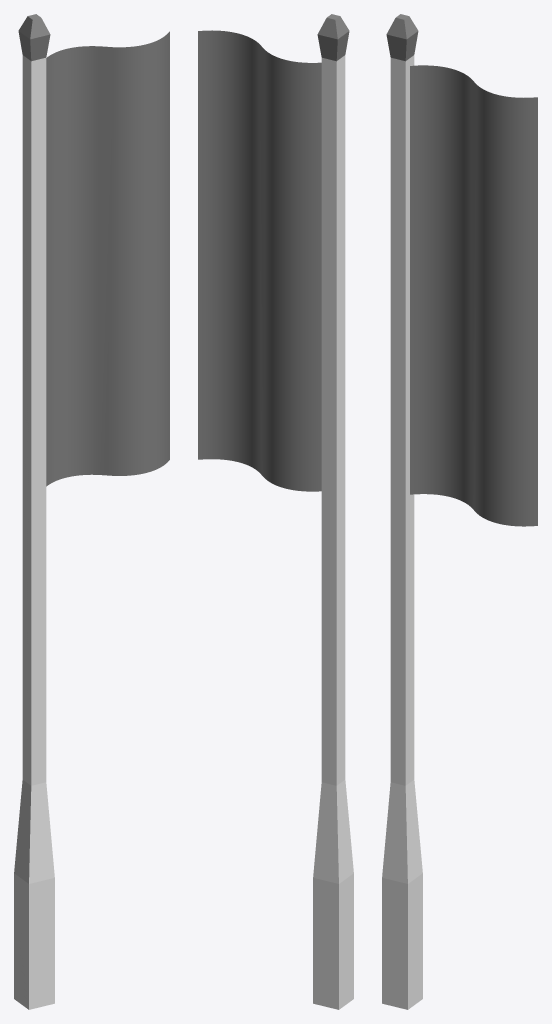
Rendered from flagCheckers.glb.
The picture shows the model from 3 angles, left to right: view 1: azimuth 30°, elevation 25°; view 2: azimuth 150°, elevation 25°; view 3: azimuth 330°, elevation 25°; orthographic projection.
Visible parts, largest first — view 1: flagCheckers(Clone), Group; view 2: flagCheckers(Clone), Group; view 3: flagCheckers(Clone), Group.
Boxes of the visible parts, x1,y1,x2,y2 form: flagCheckers(Clone): [46, 31, 169, 486]; Group: [14, 14, 54, 1009]; flagCheckers(Clone): [198, 30, 321, 491]; Group: [313, 14, 353, 1009]; flagCheckers(Clone): [410, 65, 537, 526]; Group: [382, 14, 422, 1009].
Size of the model in its own units: 0.1972 by 1.25 by 0.0352.
1 material, 1 textured.
